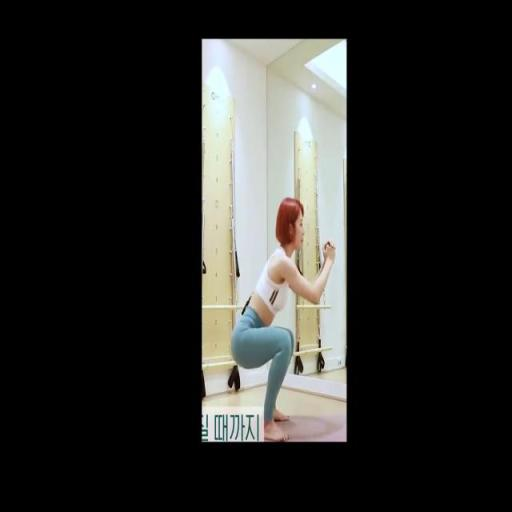Normal_BrenchPress: (226, 198, 337, 442)
